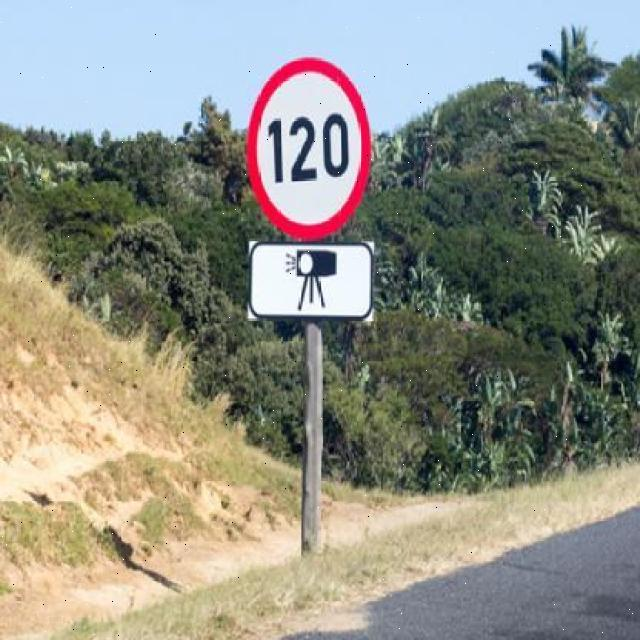speed limit 120: (246, 56, 372, 239)
